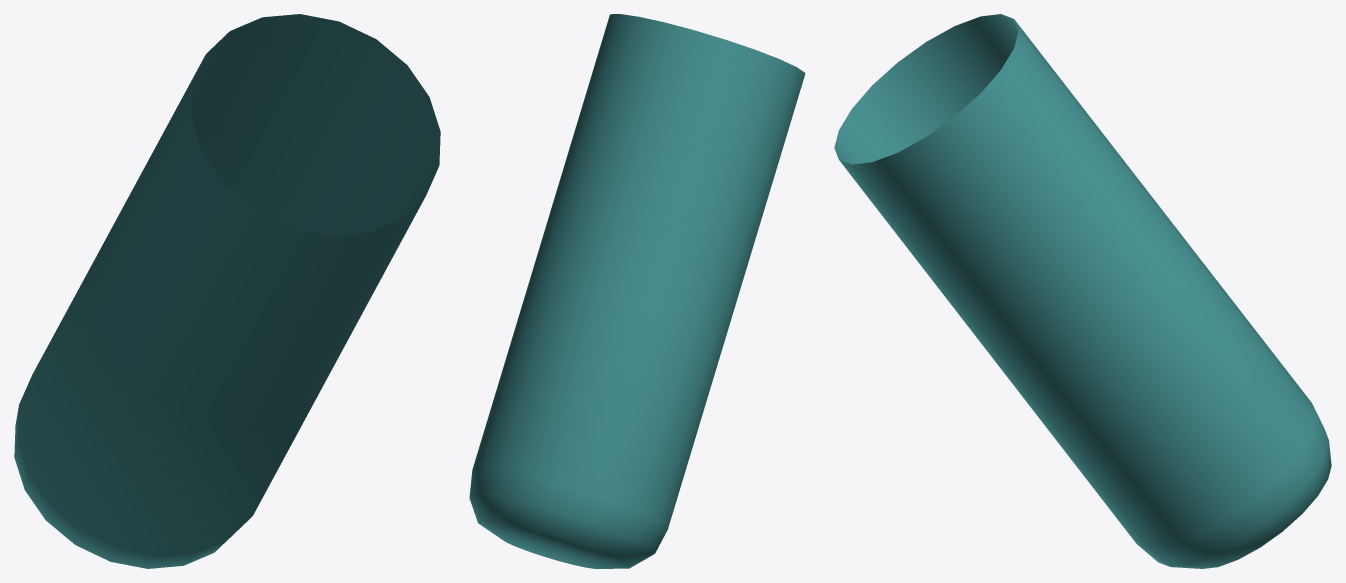
File: SM_凯式定氮仪液体_002.fbx
3 views of the same model, side by side, from view 1: azimuth 30°, elevation 25°; view 2: azimuth 150°, elevation 25°; view 3: azimuth 270°, elevation 25° (orthographic). The views are drawn at different scales.
Parts seen in each view (by area): view 1: SM_凯式定氮仪液体_002; view 2: SM_凯式定氮仪液体_002; view 3: SM_凯式定氮仪液体_002.
Boxes of the visible parts, box(x1,y1,x2,y2) form: SM_凯式定氮仪液体_002: box(14, 14, 440, 568); SM_凯式定氮仪液体_002: box(469, 14, 805, 568); SM_凯式定氮仪液体_002: box(834, 14, 1331, 568).
Size of the model in its own units: 0.0352 by 0.0905 by 0.0776.
